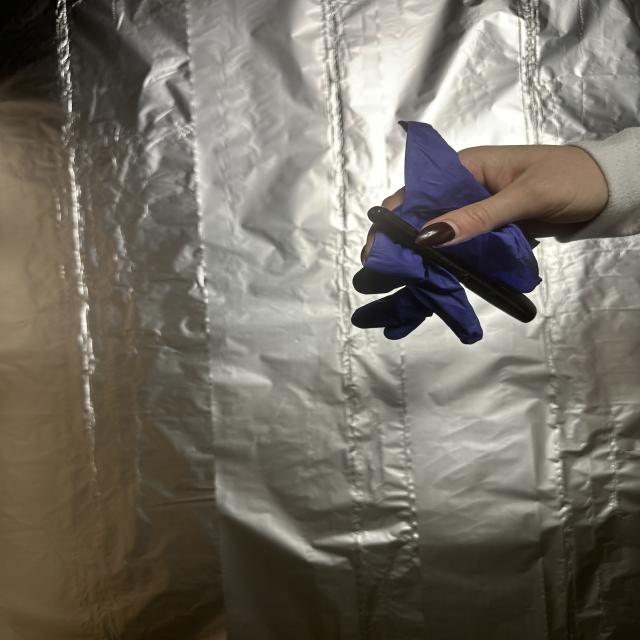glove_not_fitted: (346, 118, 640, 350)
